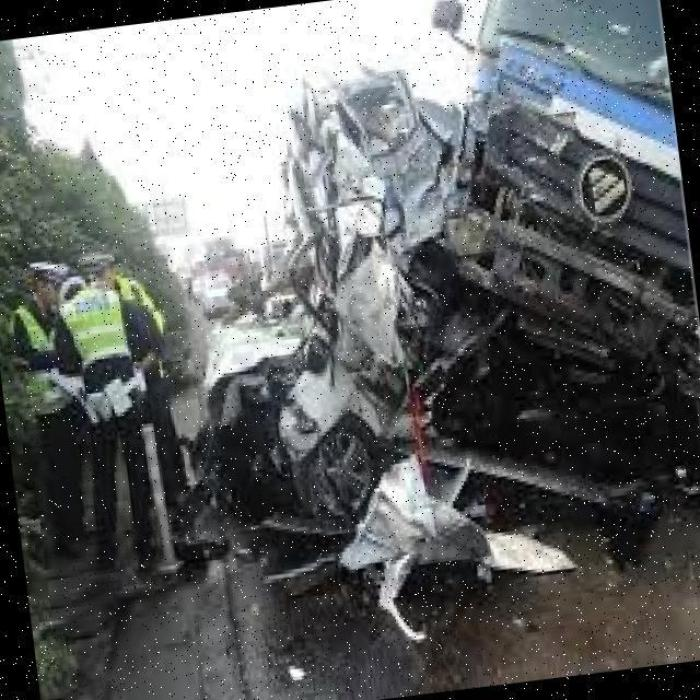Accident: (149, 0, 700, 615)
